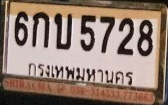num6: (13, 11, 29, 47)
txt01: (30, 11, 50, 49)
txt21: (53, 12, 75, 50)
